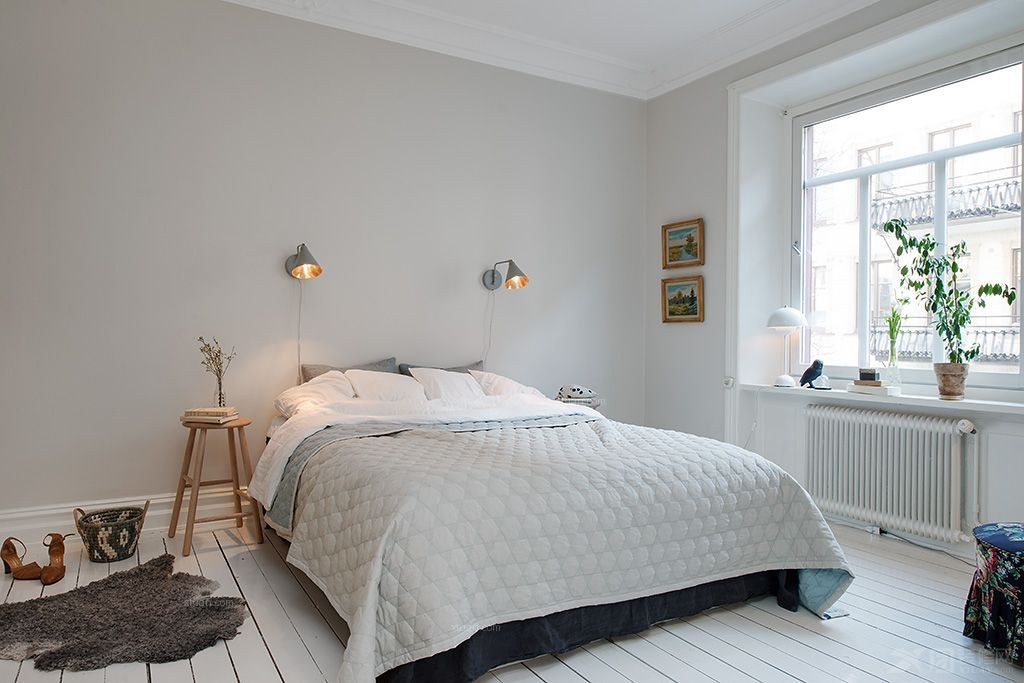床: (258, 400, 842, 652)
枕头: (285, 357, 551, 412)
灯: (477, 253, 530, 297), (281, 235, 318, 290)
